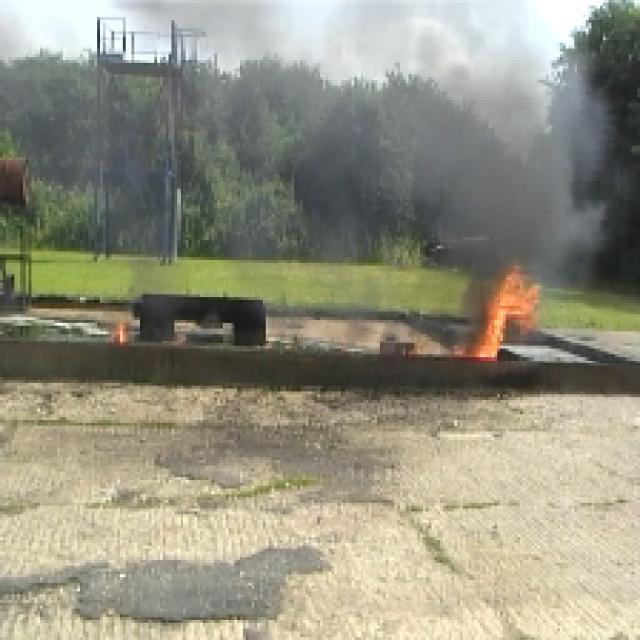Smoke: (242, 8, 604, 237)
